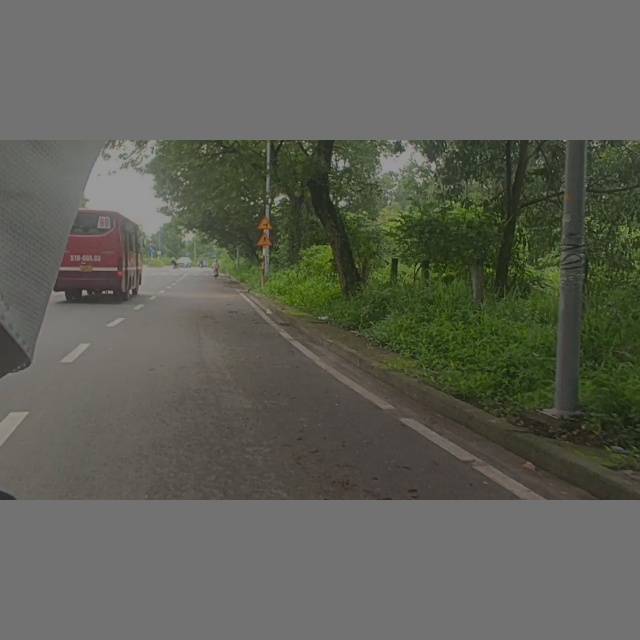W.205c: (257, 215, 281, 228)
W.224: (256, 233, 277, 245)
